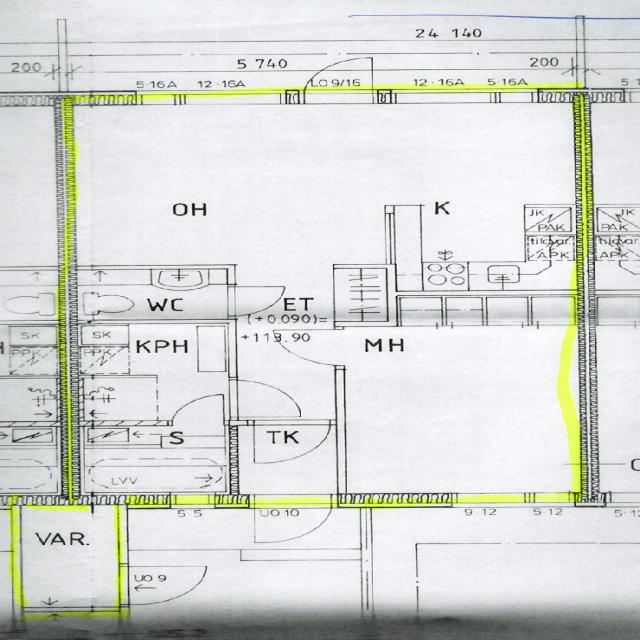door: (255, 495, 330, 549), (304, 52, 373, 104), (254, 420, 329, 466), (118, 567, 196, 604), (229, 379, 307, 416), (270, 330, 345, 366), (231, 286, 294, 316), (172, 392, 224, 426)
